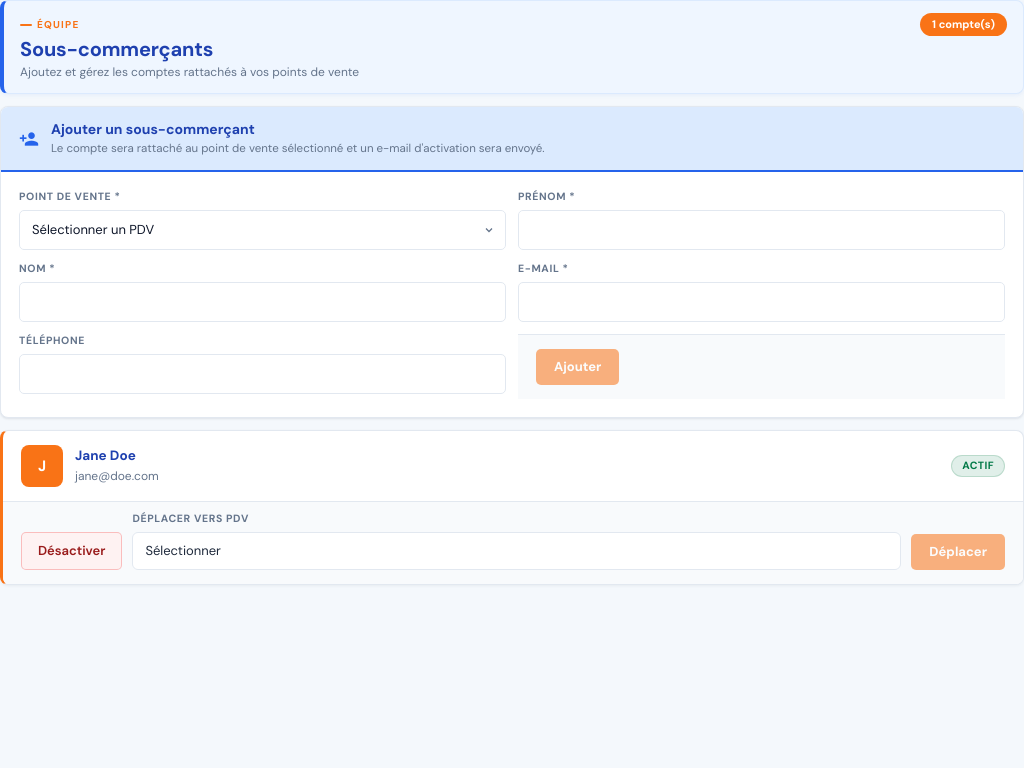
Test: CommercantSubCommercantsPage › active/desactive un sous-commercant existant
Click the button "Désactiver".
click(72, 551)  # box [21,532,122,570]
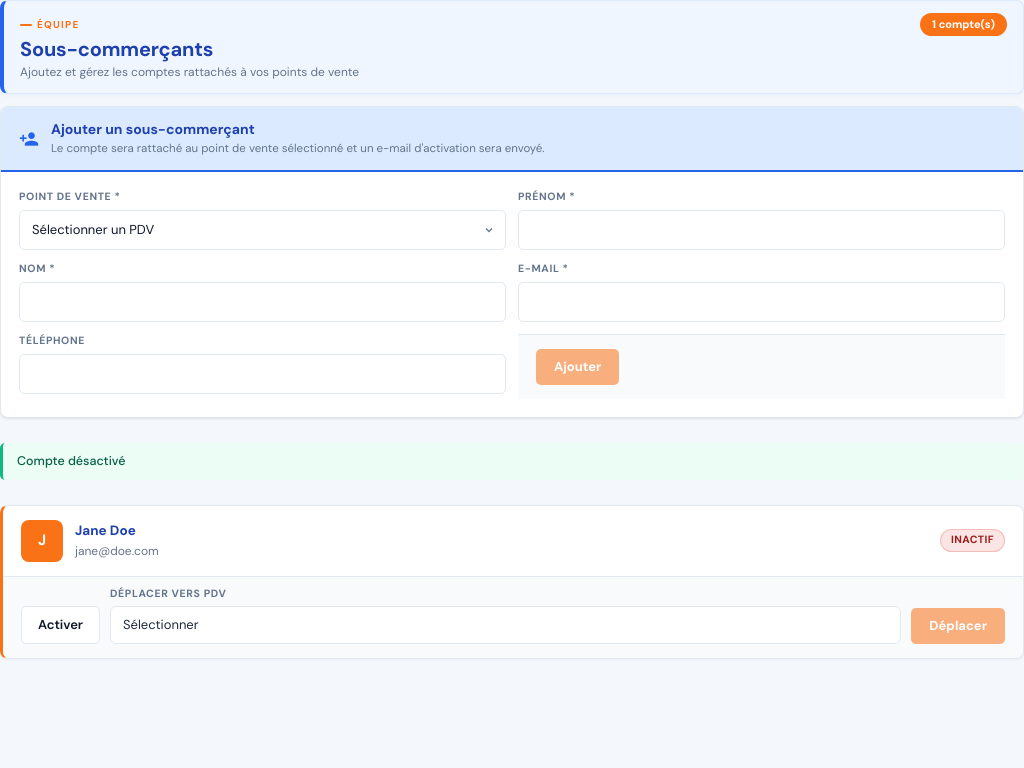
Expected: the text "Compte désactivé" is shown, [0,442,1023,480]
